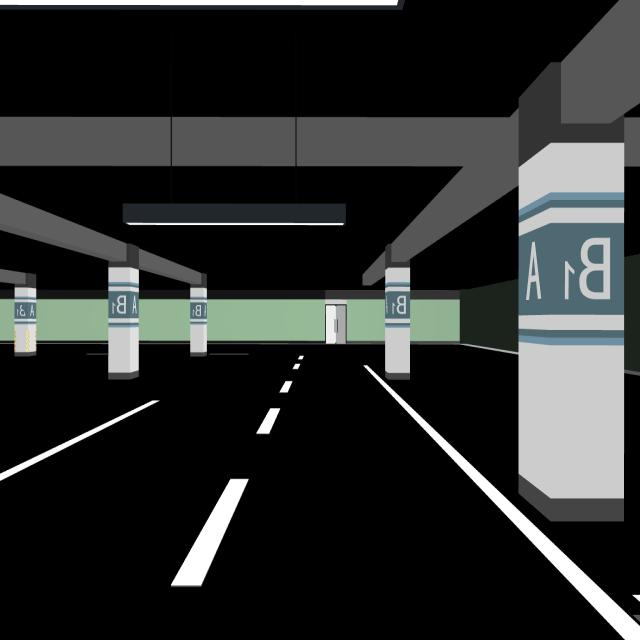simu_pillar: (519, 142, 624, 521), (109, 264, 139, 379), (385, 267, 410, 380), (14, 286, 36, 355), (190, 284, 208, 356)
